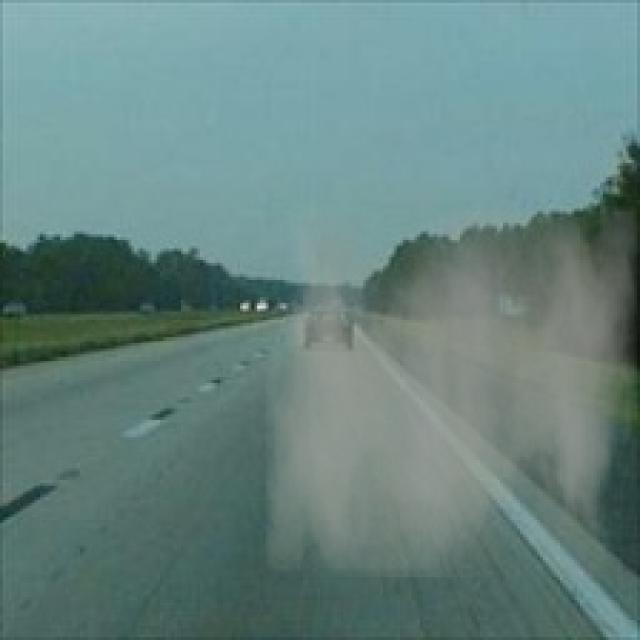smoke: (266, 206, 637, 577)
